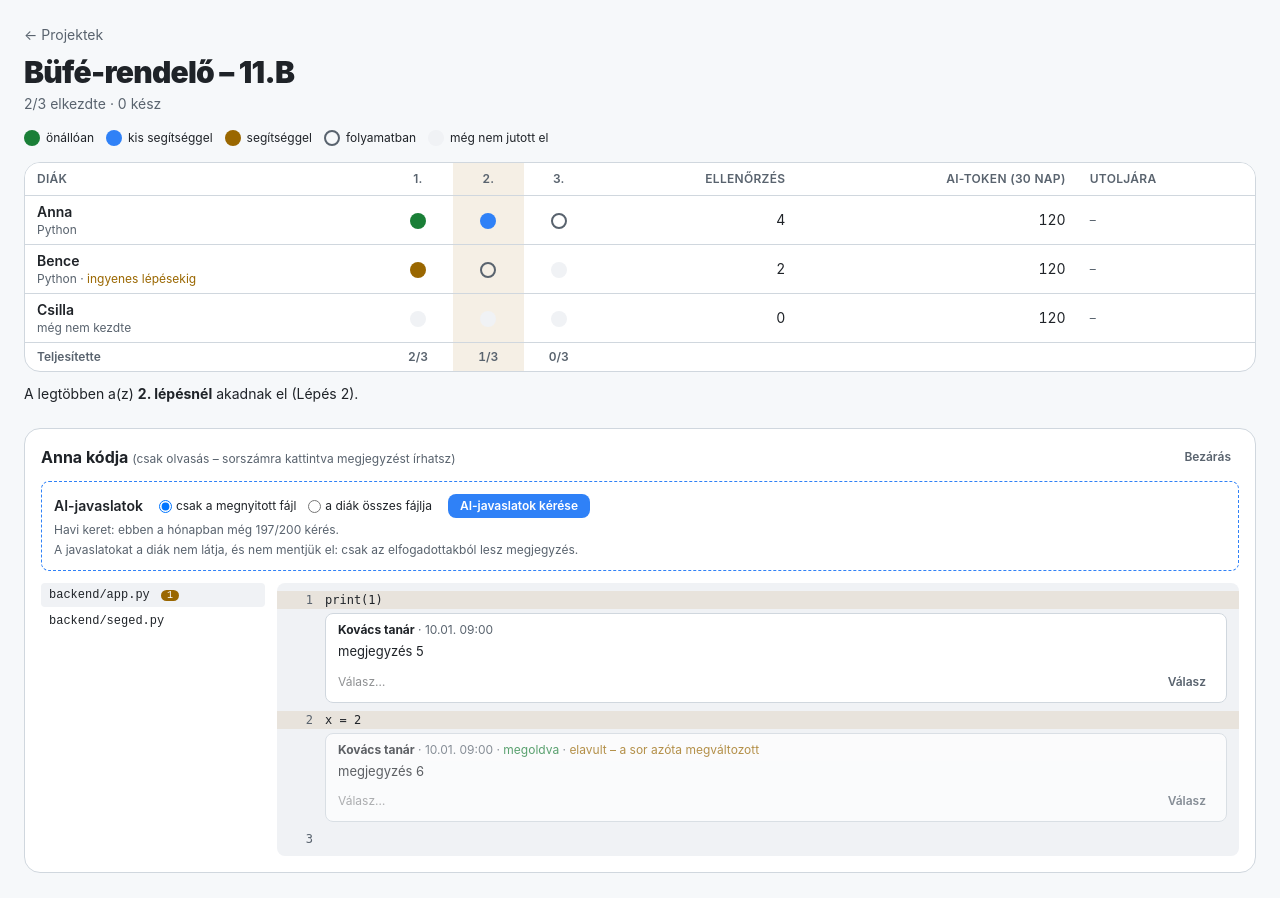
Test: ProjektKiadasComponent (osztály-nézet) › fájlváltás megszünteti a nyitott új megjegyzést
Click the button "2" at (301, 720), box [277,710,325,728]
(page scrolled)
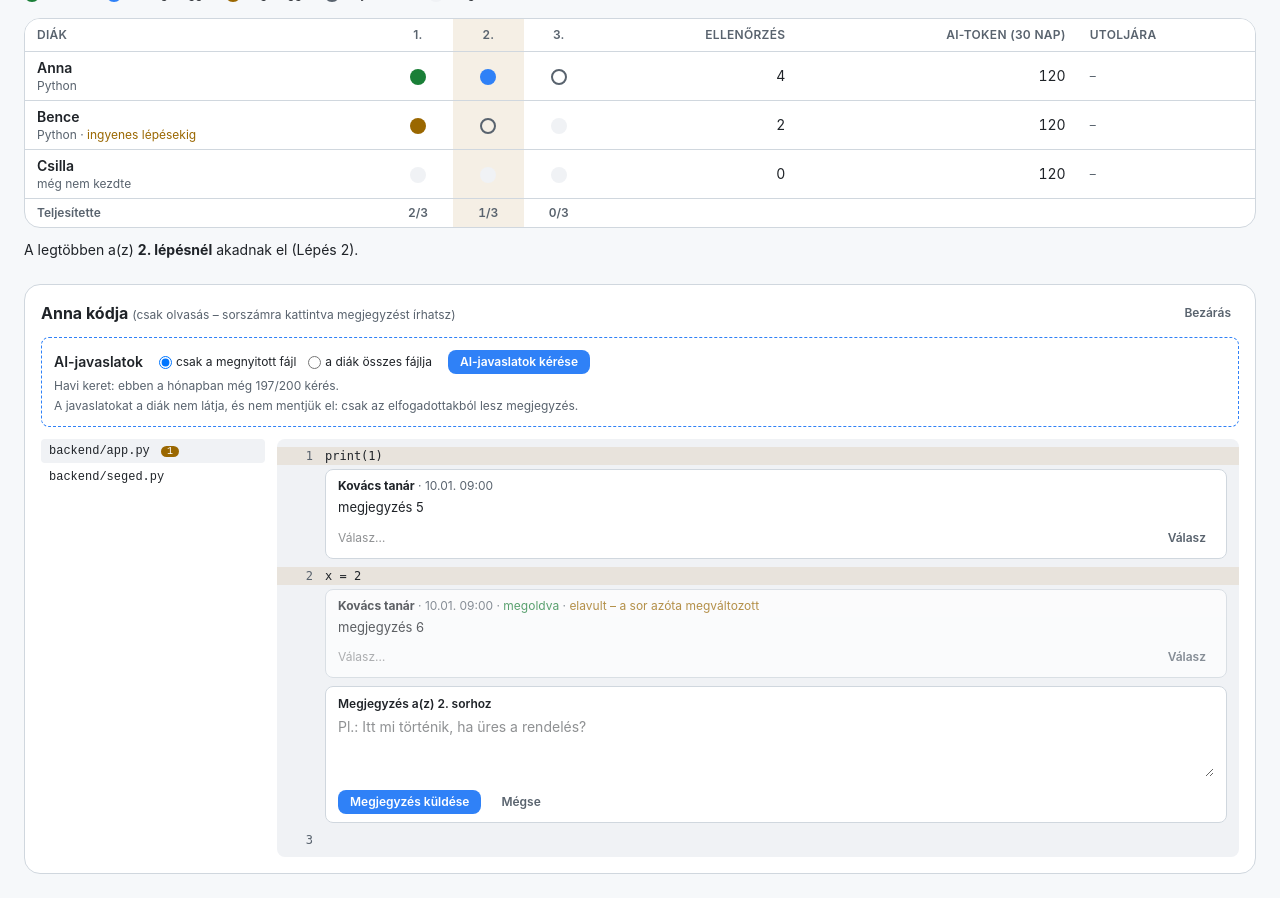
Check: the form with test id "new-comment" is shown, box [325,686,1227,823]
